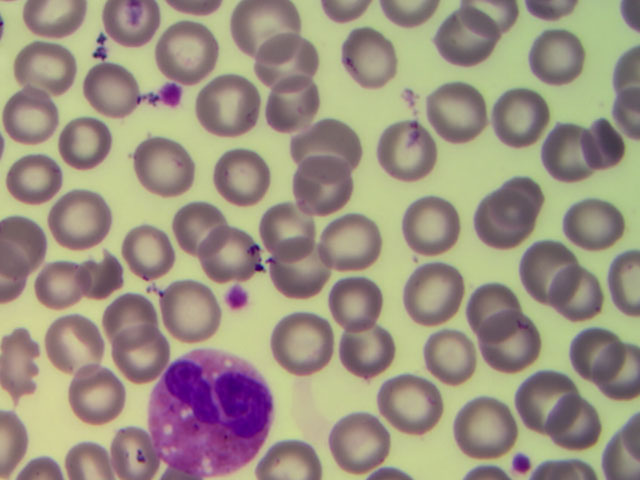Platelets: (226, 285, 247, 310), (160, 84, 181, 106), (514, 455, 533, 474)
RBC: (515, 237, 581, 302), (134, 135, 196, 197), (272, 312, 334, 374), (208, 146, 270, 208), (197, 73, 259, 135), (159, 283, 221, 345), (42, 313, 104, 375), (66, 361, 128, 423), (378, 371, 440, 433), (328, 410, 390, 472), (294, 119, 356, 181), (292, 153, 354, 215), (319, 210, 381, 272), (259, 202, 321, 264), (266, 238, 328, 300), (377, 122, 437, 185), (427, 81, 485, 145), (81, 56, 141, 115), (454, 396, 513, 455), (14, 41, 75, 97), (529, 28, 587, 86), (157, 23, 215, 81), (439, 11, 497, 69), (259, 34, 317, 92), (261, 73, 319, 131), (342, 31, 400, 89), (237, 1, 295, 58), (111, 325, 172, 379), (256, 435, 326, 480), (199, 225, 258, 278), (342, 316, 393, 373), (555, 264, 606, 321), (476, 191, 527, 248), (589, 341, 640, 398), (567, 326, 618, 383), (549, 392, 600, 449), (493, 173, 544, 230), (406, 194, 457, 251), (484, 312, 535, 369), (469, 283, 520, 340), (424, 328, 475, 385), (409, 267, 460, 324), (571, 114, 622, 171), (542, 124, 593, 181), (495, 86, 546, 143), (4, 87, 55, 144), (61, 113, 112, 170), (8, 149, 59, 206), (55, 191, 106, 248), (118, 226, 175, 276), (1, 215, 50, 272), (103, 295, 158, 345), (566, 200, 625, 245), (102, 1, 161, 45), (1, 329, 39, 396), (172, 202, 226, 249), (113, 423, 156, 480), (38, 258, 83, 306), (21, 1, 81, 37), (57, 440, 110, 480), (460, 1, 517, 37), (534, 448, 597, 480), (1, 412, 32, 476), (611, 246, 640, 312), (609, 84, 640, 144), (605, 428, 640, 480), (608, 41, 640, 97), (1, 242, 30, 300), (85, 253, 130, 290), (379, 1, 438, 26), (16, 452, 64, 480), (315, 1, 369, 24), (164, 1, 225, 18), (619, 405, 640, 452), (525, 1, 582, 18), (617, 1, 640, 35)
WBC: (147, 351, 274, 474)
